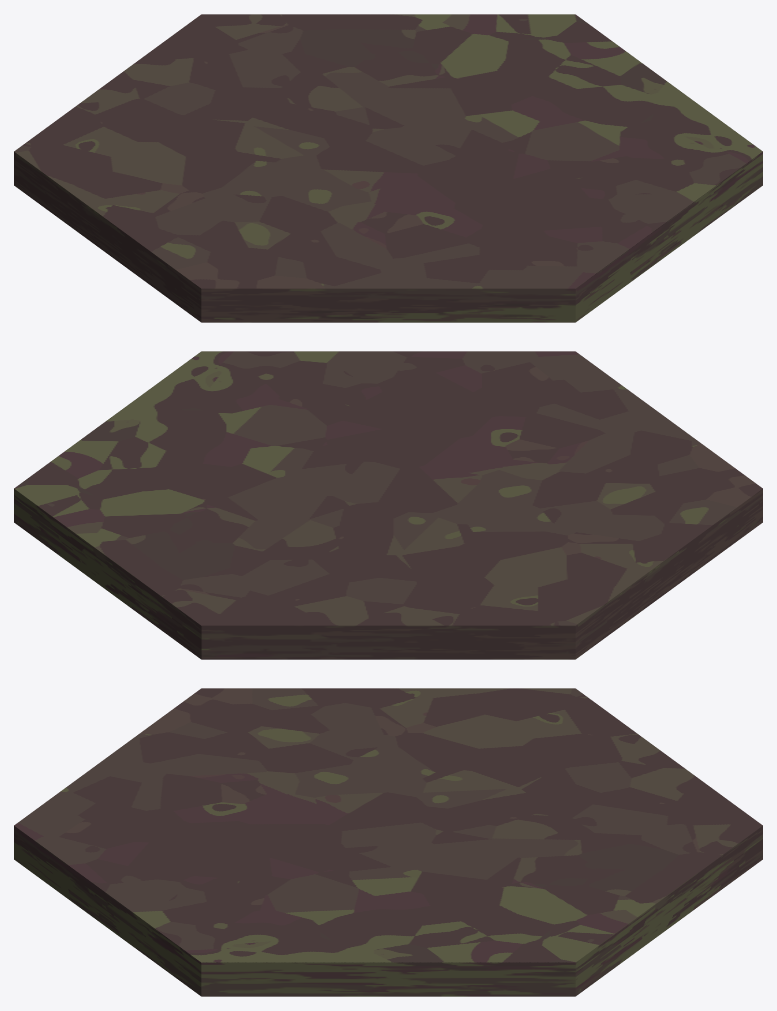
Rendered from Rocky.glb.
3 views of the same model, one above another, from view 1: azimuth 30°, elevation 25°; view 2: azimuth 150°, elevation 25°; view 3: azimuth 270°, elevation 25° (orthographic).
Parts seen in each view (by area): view 1: 03 Rocky; view 2: 03 Rocky; view 3: 03 Rocky.
Part boxes in pixels (x1,y1,x2,y2): 03 Rocky: [14, 14, 762, 322]; 03 Rocky: [14, 351, 762, 659]; 03 Rocky: [14, 688, 762, 996].
Size of the model in its own units: 1.73 by 0.1 by 2.
1 material, 1 textured.
